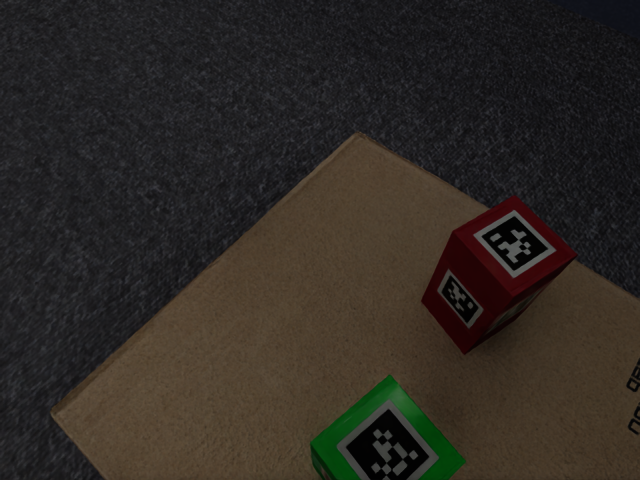puck_green_box: (310, 375, 465, 479)
puck_red_box: (421, 195, 577, 354)
